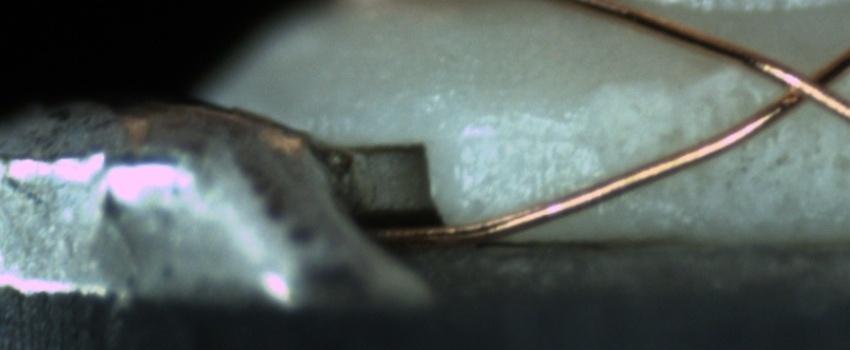CL: (760, 48, 848, 119)
DL: (464, 113, 588, 166)
